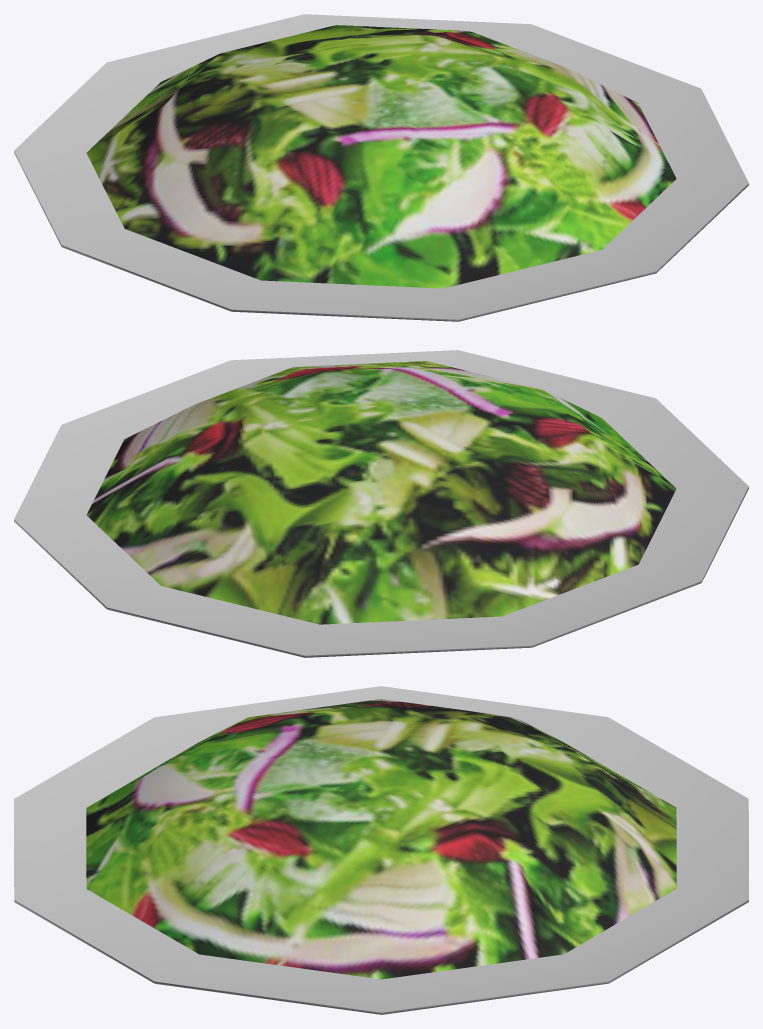
Rendered from prop_foodmenu08.fbx.
The picture shows the model from 3 angles, top to bottom: view 1: azimuth 30°, elevation 25°; view 2: azimuth 150°, elevation 25°; view 3: azimuth 270°, elevation 25°; orthographic projection. The views are drawn at different scales.
Parts seen in each view (by area): view 1: prop_foodmenu08; view 2: prop_foodmenu08; view 3: prop_foodmenu08.
Boxes of the visible parts, x1,y1,x2,y2 form: prop_foodmenu08: [14, 14, 748, 321]; prop_foodmenu08: [14, 350, 748, 657]; prop_foodmenu08: [14, 686, 748, 1014].
Size of the model in its own units: 0.2457 by 0.0422 by 0.2338.
